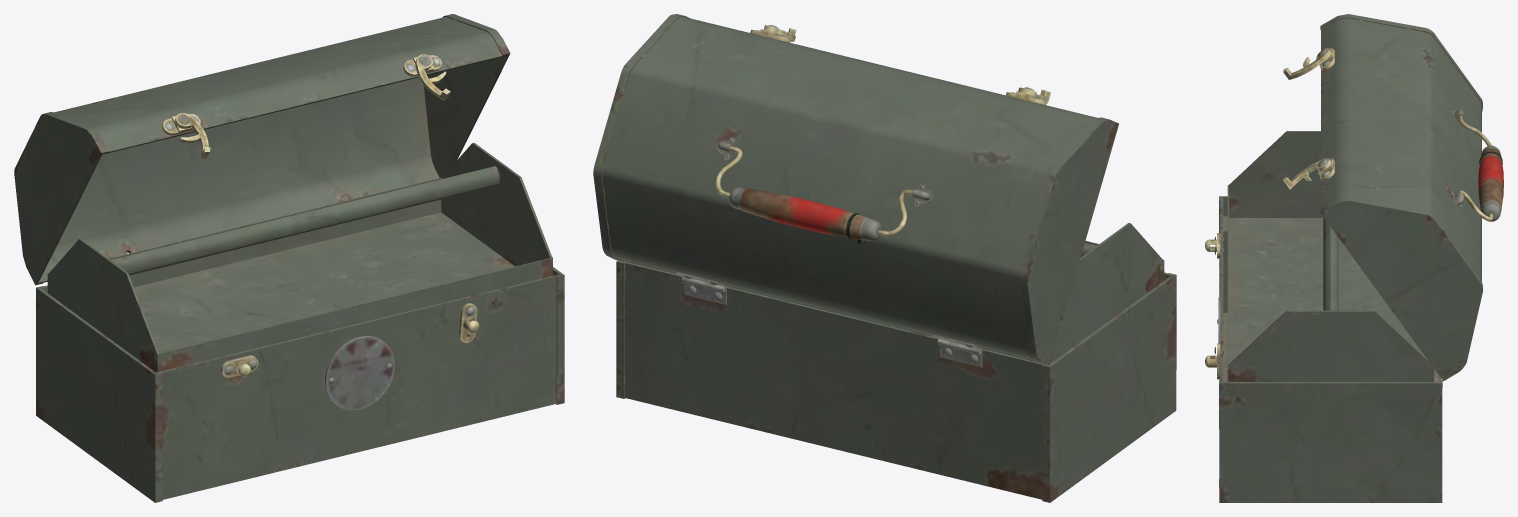
Rendered from metal_toolbox.glb.
3 views of the same model, side by side, from view 1: azimuth 30°, elevation 25°; view 2: azimuth 150°, elevation 25°; view 3: azimuth 270°, elevation 25° (orthographic). The views are drawn at different scales.
Visible parts, largest first — view 1: metal_toolbox; view 2: metal_toolbox; view 3: metal_toolbox.
Boxes of the visible parts, x1,y1,x2,y2 form: metal_toolbox: (14,14,564,502); metal_toolbox: (593,14,1176,502); metal_toolbox: (1205,14,1503,502).
Bounding box in the file's own units: 0.4 × 0.3047 × 0.2705.
1 material, 1 textured.
